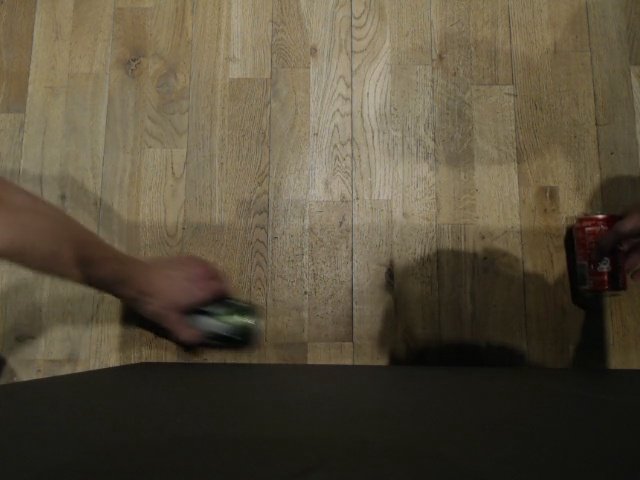beer: (171, 296, 256, 350)
cola: (573, 213, 624, 296)
